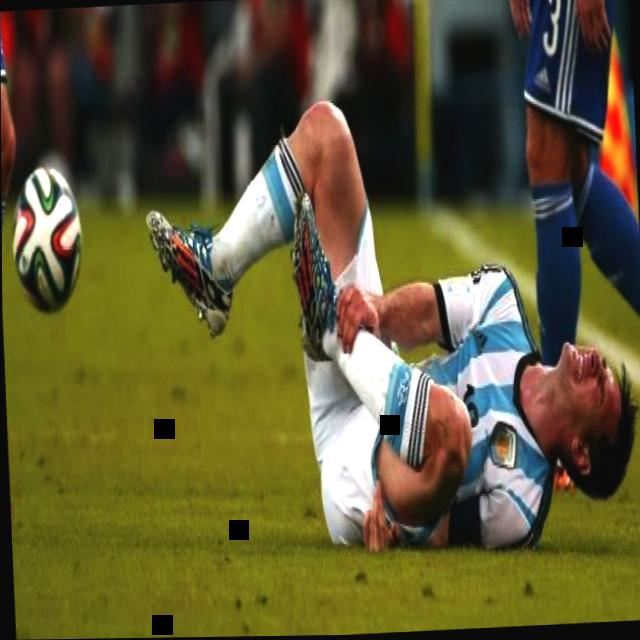Fall-Detected: (138, 68, 640, 559)
